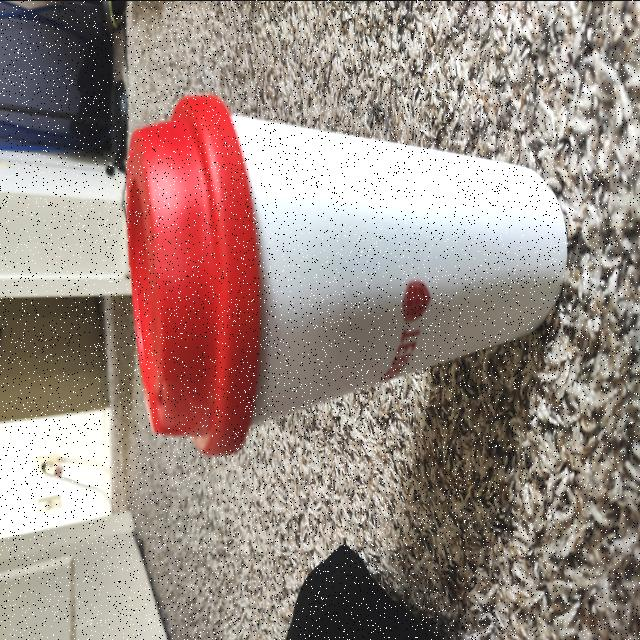mug: (124, 97, 567, 447)
